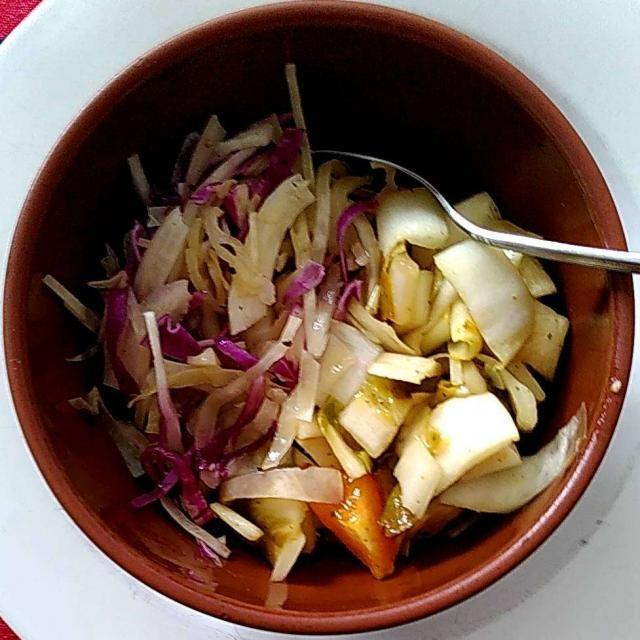cabbage: (56, 72, 368, 562)
mandarine: (313, 475, 403, 573)
witloof-chicory: (259, 190, 585, 566)
